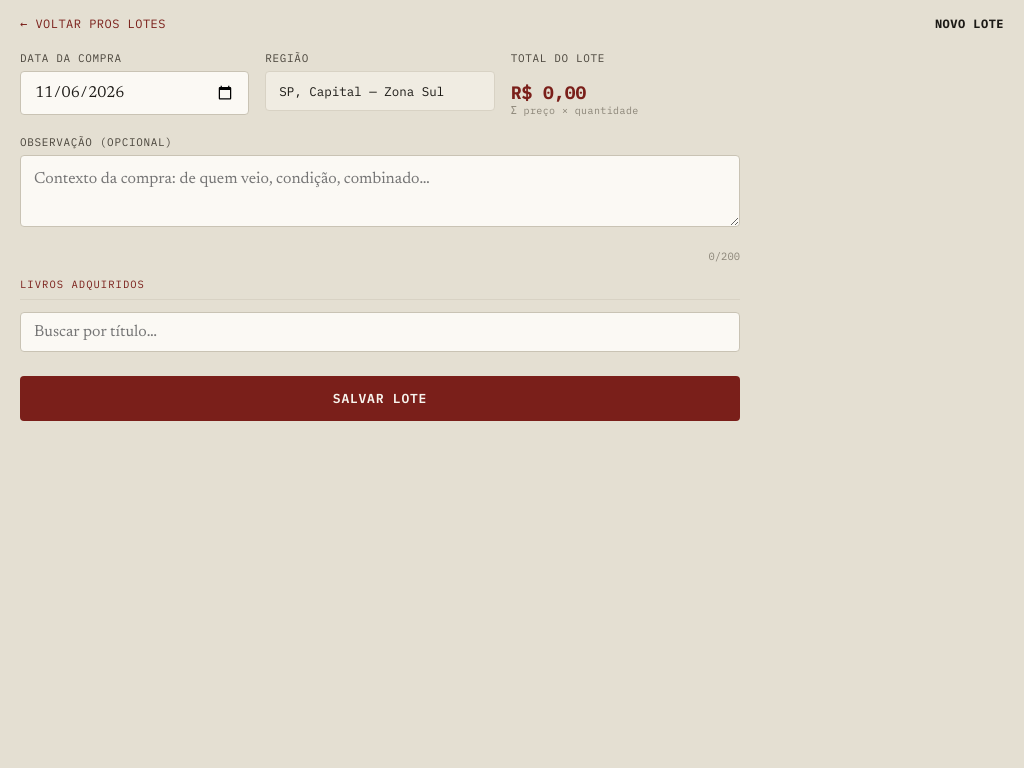
Test: Backoffice — Novo lote › a lista de títulos só aparece ao focar a busca
The width and height of the screenshot is (1024, 768).
Expected: the text "A Comuna e o Fogo" is not shown
Click the field with placeholder "Buscar por título…".
click(380, 332)  # box [20, 312, 740, 352]
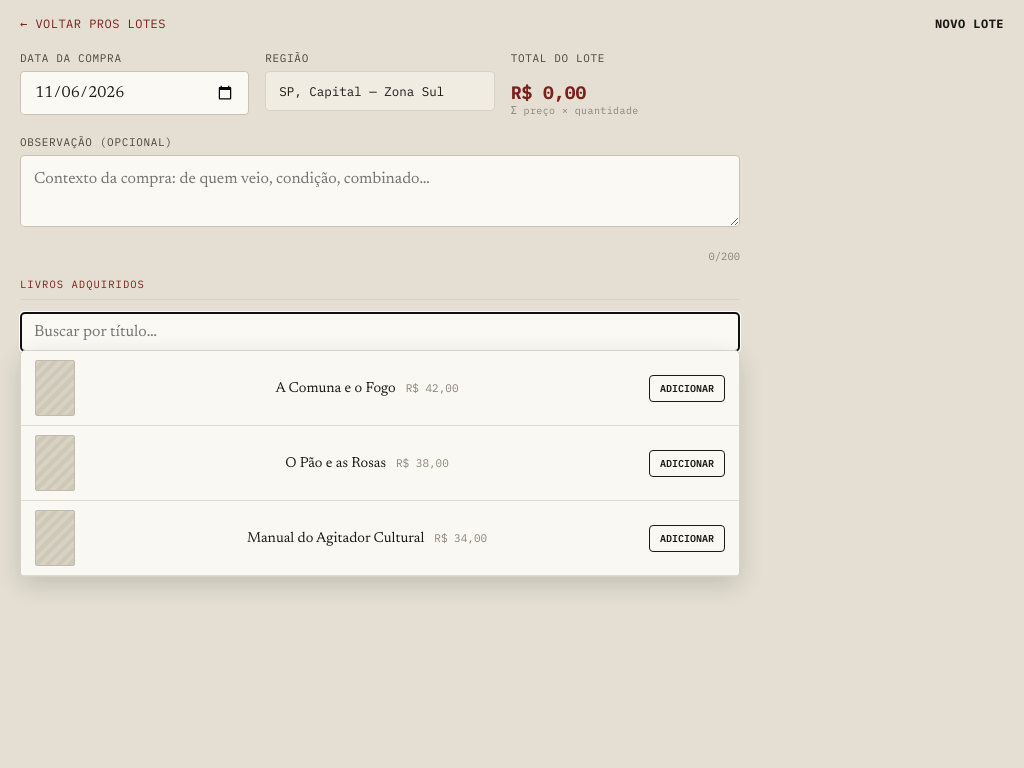
Result: the text "A Comuna e o Fogo" is shown at [276, 380, 396, 396]
